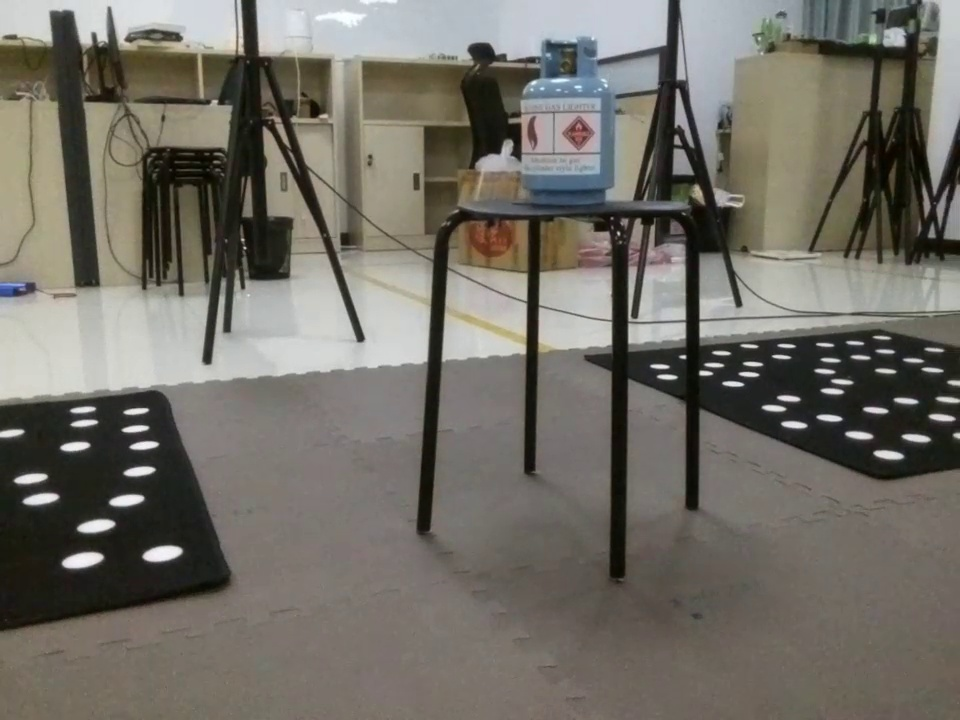gas tank: (516, 33, 623, 210)
